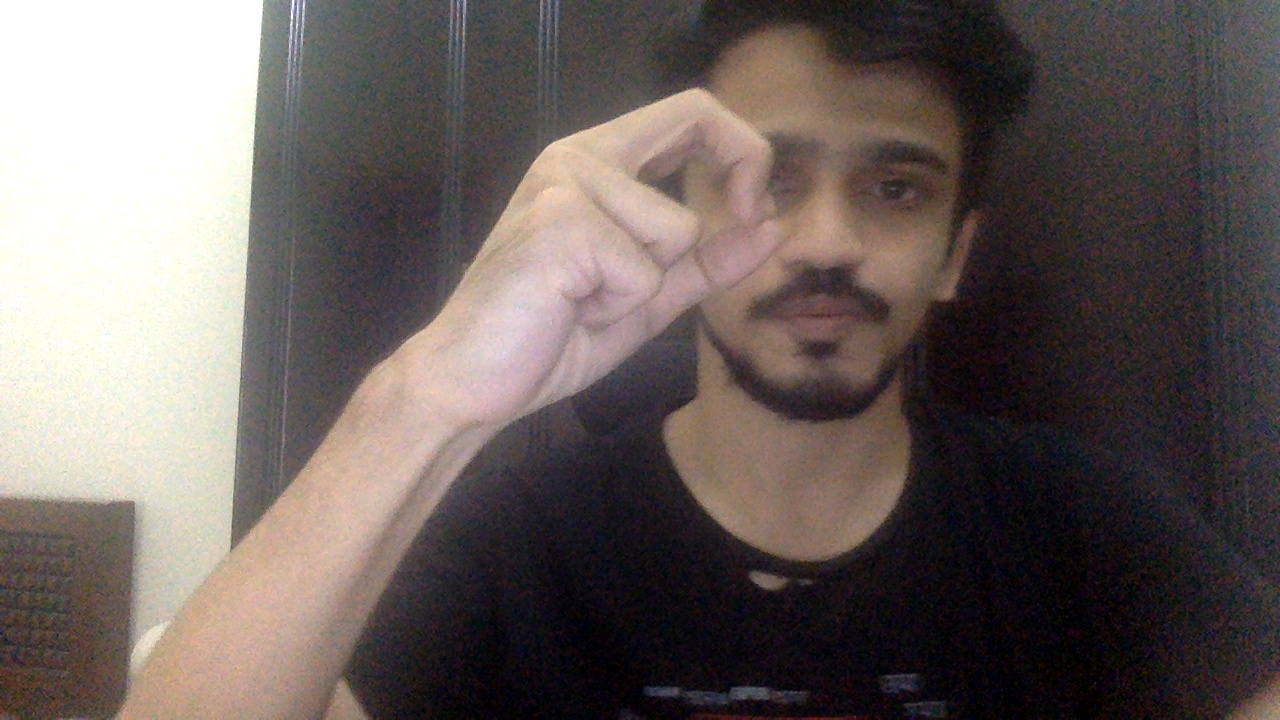zero: (419, 85, 781, 425)
